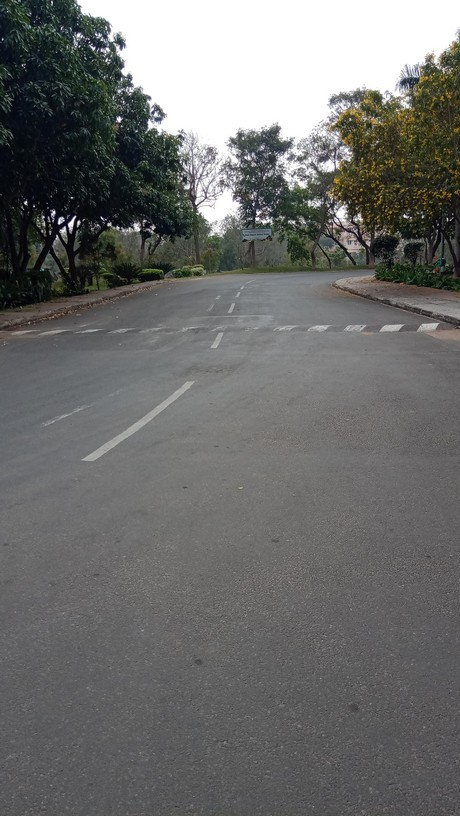bump: (1, 319, 459, 341)
